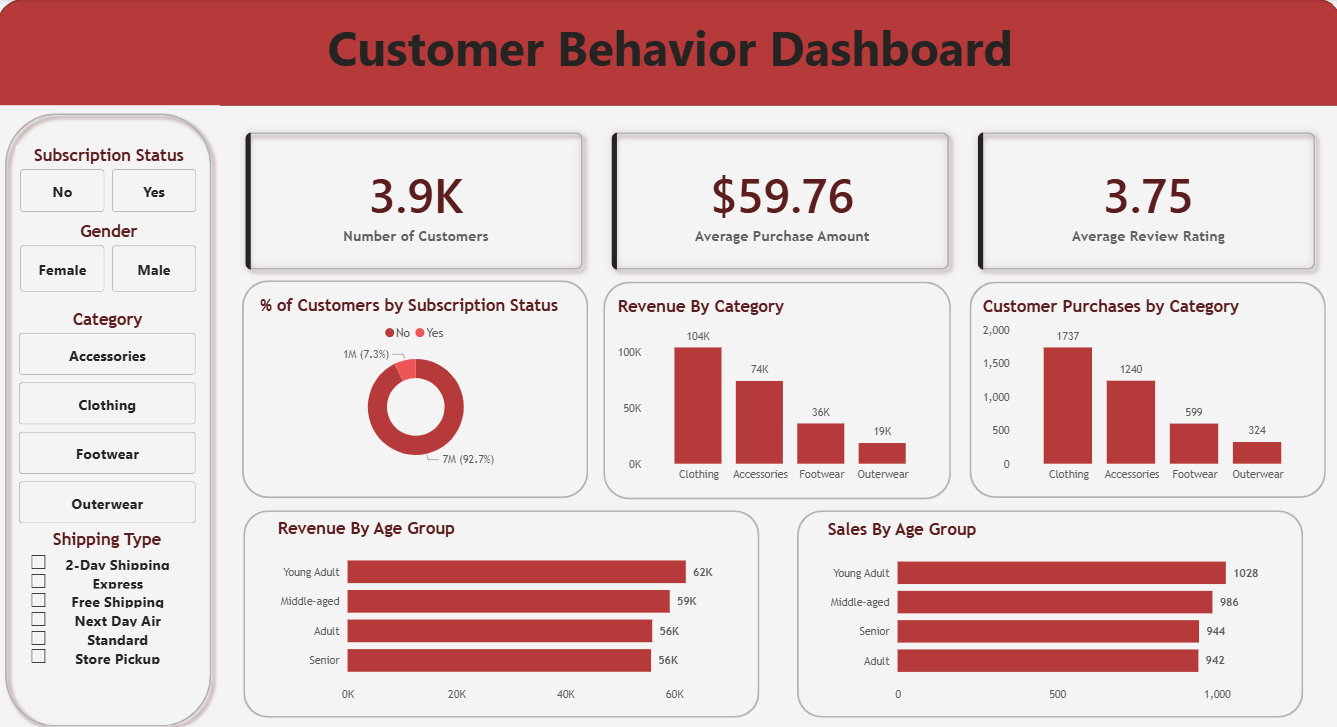

The dashboard page shown, as its layout file describes it:
{"tool":"powerbi","page":{"name":"Customer Behavior Dashboard","canvas":[1500,820],"ordinal":0},"visuals":[{"type":"cardVisual","fields":{"Data":["customer_behavior customer.Number of Customers","customer_behavior customer.Average Purchase Amount","customer_behavior customer.Average Review Rating"]},"box":[247.9,119.8,1252,211.7],"z":0},{"type":"shape","box":[0,0,1500.3,119],"z":1000},{"type":"textbox","box":[0,12.5,1499.9,94.7],"z":2000},{"type":"shape","box":[273.4,313.6,385.9,242.8],"z":3000},{"type":"donutChart","title":"% of Customers by Subscription Status","fields":{"Category":["customer_behavior customer.subscription_status"],"Y":["Sum(customer_behavior customer.customer_id)"]},"box":[287.8,329.7,357,197.8],"z":4000},{"type":"shape","box":[675.1,314.5,387.5,242.8],"z":5000},{"type":"shape","box":[1083.8,315.2,397.2,241.2],"z":6000},{"type":"clusteredColumnChart","title":"Revenue By Category","fields":{"Category":["customer_behavior customer.category"],"Y":["Sum(customer_behavior customer.purchase_amount)"]},"box":[686.6,331.5,360.7,214.5],"z":7000},{"type":"clusteredColumnChart","title":"Customer Purchases by Category","fields":{"Category":["customer_behavior customer.category"],"Y":["CountNonNull(customer_behavior customer.customer_id)"]},"box":[1093.2,331.5,373.2,214.5],"z":8000},{"type":"shape","box":[0,118.4,247.9,701.9],"z":9000},{"type":"advancedSlicerVisual","title":"Subscription Status","fields":{"Values":["customer_behavior customer.subscription_status"]},"box":[20.9,162.4,207.4,80.4],"z":10000},{"type":"advancedSlicerVisual","title":"Category","fields":{"Values":["customer_behavior customer.category"]},"box":[19.3,345.7,207.4,246],"z":11000},{"type":"advancedSlicerVisual","title":"Gender","fields":{"Values":["customer_behavior customer.gender"]},"box":[20.9,247.6,207.4,83.6],"z":12000},{"type":"listSlicer","title":"Shipping Type","fields":{"Values":["customer_behavior customer.shipping_type"]},"box":[32,590.5,181,203.3],"z":13000},{"type":"shape","box":[274.1,570.2,575.2,231.2],"z":14000},{"type":"clusteredBarChart","title":"Revenue By Age Group","fields":{"Category":["customer_behavior customer.age_group"],"Y":["Sum(customer_behavior customer.purchase_amount)"]},"box":[307.8,578,505.5,213.1],"z":15000},{"type":"shape","box":[891.9,570.2,564,231.2],"z":16000},{"type":"clusteredBarChart","title":"Sales By Age Group","fields":{"Y":["CountNonNull(customer_behavior customer.customer_id)"],"Category":["customer_behavior customer.age_group"]},"box":[920.6,579.4,506.9,211.7],"z":16001}]}

Visuals, with their boxes in screenshot pixels (x1, y1, x2, y2), scaled from the page's 1500x820 canvas onto the 1337x727 screenshot:
cardVisual - customer_behavior customer.Number of Customers x customer_behavior customer.Average Purchase Amount: (x1=221, y1=106, x2=1336, y2=294)
shape: (x1=0, y1=0, x2=1336, y2=106)
textbox: (x1=0, y1=11, x2=1336, y2=95)
shape: (x1=244, y1=278, x2=588, y2=493)
"% of Customers by Subscription Status" donutChart: (x1=257, y1=292, x2=575, y2=468)
shape: (x1=602, y1=279, x2=947, y2=494)
shape: (x1=966, y1=279, x2=1320, y2=493)
"Revenue By Category" clusteredColumnChart: (x1=612, y1=294, x2=933, y2=484)
"Customer Purchases by Category" clusteredColumnChart: (x1=974, y1=294, x2=1307, y2=484)
shape: (x1=0, y1=105, x2=221, y2=726)
"Subscription Status" advancedSlicerVisual: (x1=19, y1=144, x2=203, y2=215)
"Category" advancedSlicerVisual: (x1=17, y1=306, x2=202, y2=525)
"Gender" advancedSlicerVisual: (x1=19, y1=220, x2=203, y2=294)
"Shipping Type" listSlicer: (x1=29, y1=524, x2=190, y2=704)
shape: (x1=244, y1=506, x2=757, y2=711)
"Revenue By Age Group" clusteredBarChart: (x1=274, y1=512, x2=725, y2=701)
shape: (x1=795, y1=506, x2=1298, y2=711)
"Sales By Age Group" clusteredBarChart: (x1=821, y1=514, x2=1272, y2=701)
